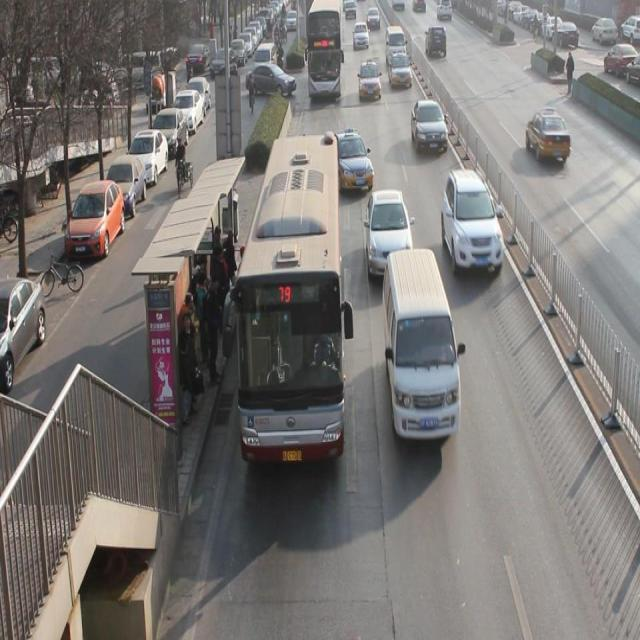car: (441, 170, 505, 280), (366, 192, 413, 279), (525, 110, 571, 169), (332, 128, 375, 190), (410, 102, 449, 154), (358, 60, 381, 99), (388, 54, 412, 88), (424, 27, 447, 58), (352, 24, 368, 47)
truck: (382, 256, 460, 442), (384, 25, 407, 63)
van: (232, 136, 343, 461), (306, 1, 340, 97)
